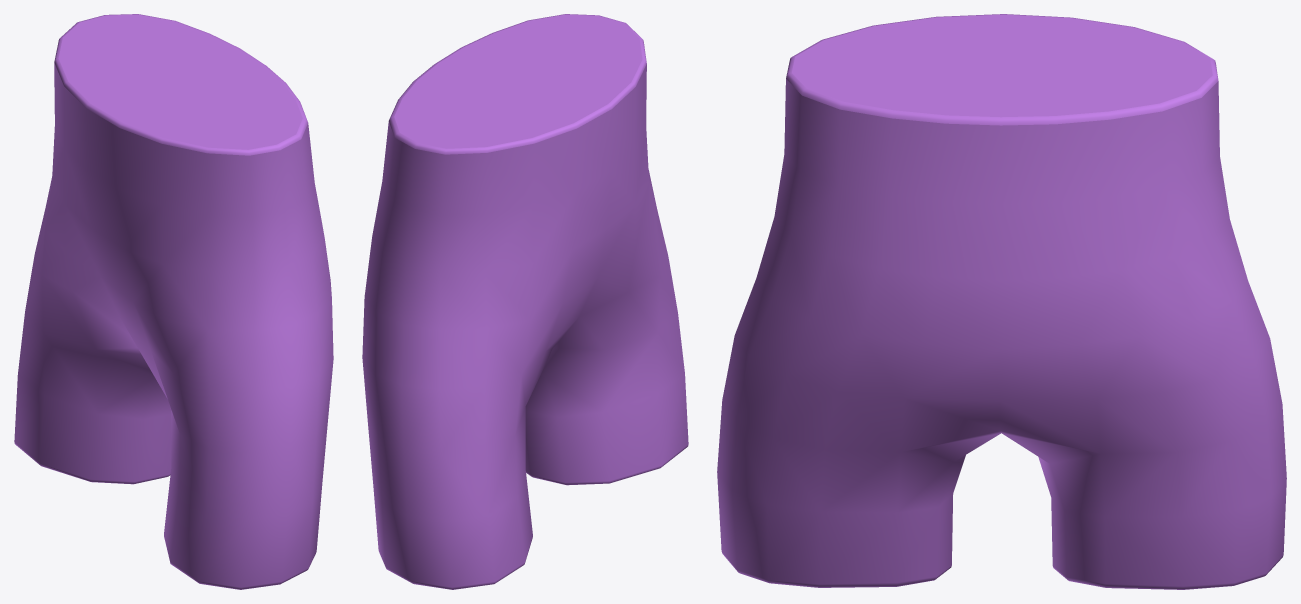
Rendered from PantDummy.fbx.
3 renders of one model, left to right at view 1: azimuth 30°, elevation 25°; view 2: azimuth 150°, elevation 25°; view 3: azimuth 270°, elevation 25°, orthographic. The views are drawn at different scales.
Parts seen in each view (by area): view 1: PantDummy; view 2: PantDummy; view 3: PantDummy.
Boxes of the visible parts, x1,y1,x2,y2 form: PantDummy: [14, 14, 333, 589]; PantDummy: [362, 14, 688, 589]; PantDummy: [717, 14, 1286, 589].
Bounding box in the file's own units: 189 × 372 × 384.
